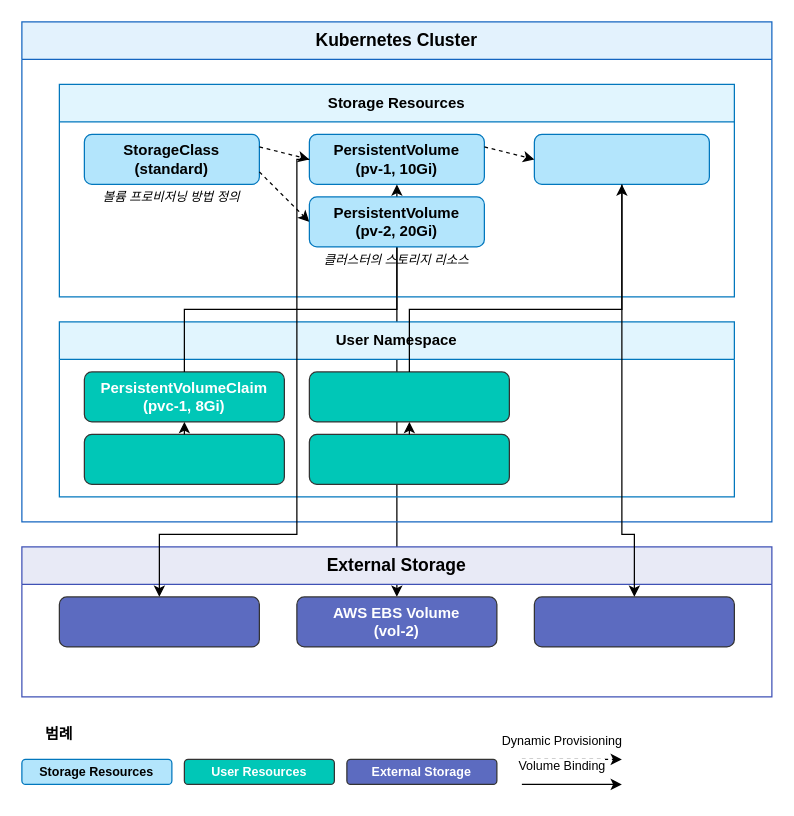
Image size: 794x816. Some labels were removed from this diagram. The centre of each missing label's shape, as x and y in pixels:
AWS EBS Volume (vol-1): the point at 158,621
AWS EBS Volume (vol-3): the point at 633,621
PersistentVolume (pv-3, 5Gi): the point at 621,158
PersistentVolumeClaim (pvc-2, 5Gi): the point at 408,396
Pod 1 (uses pvc-1): the point at 183,458
Pod 2 (uses pvc-2): the point at 408,458
